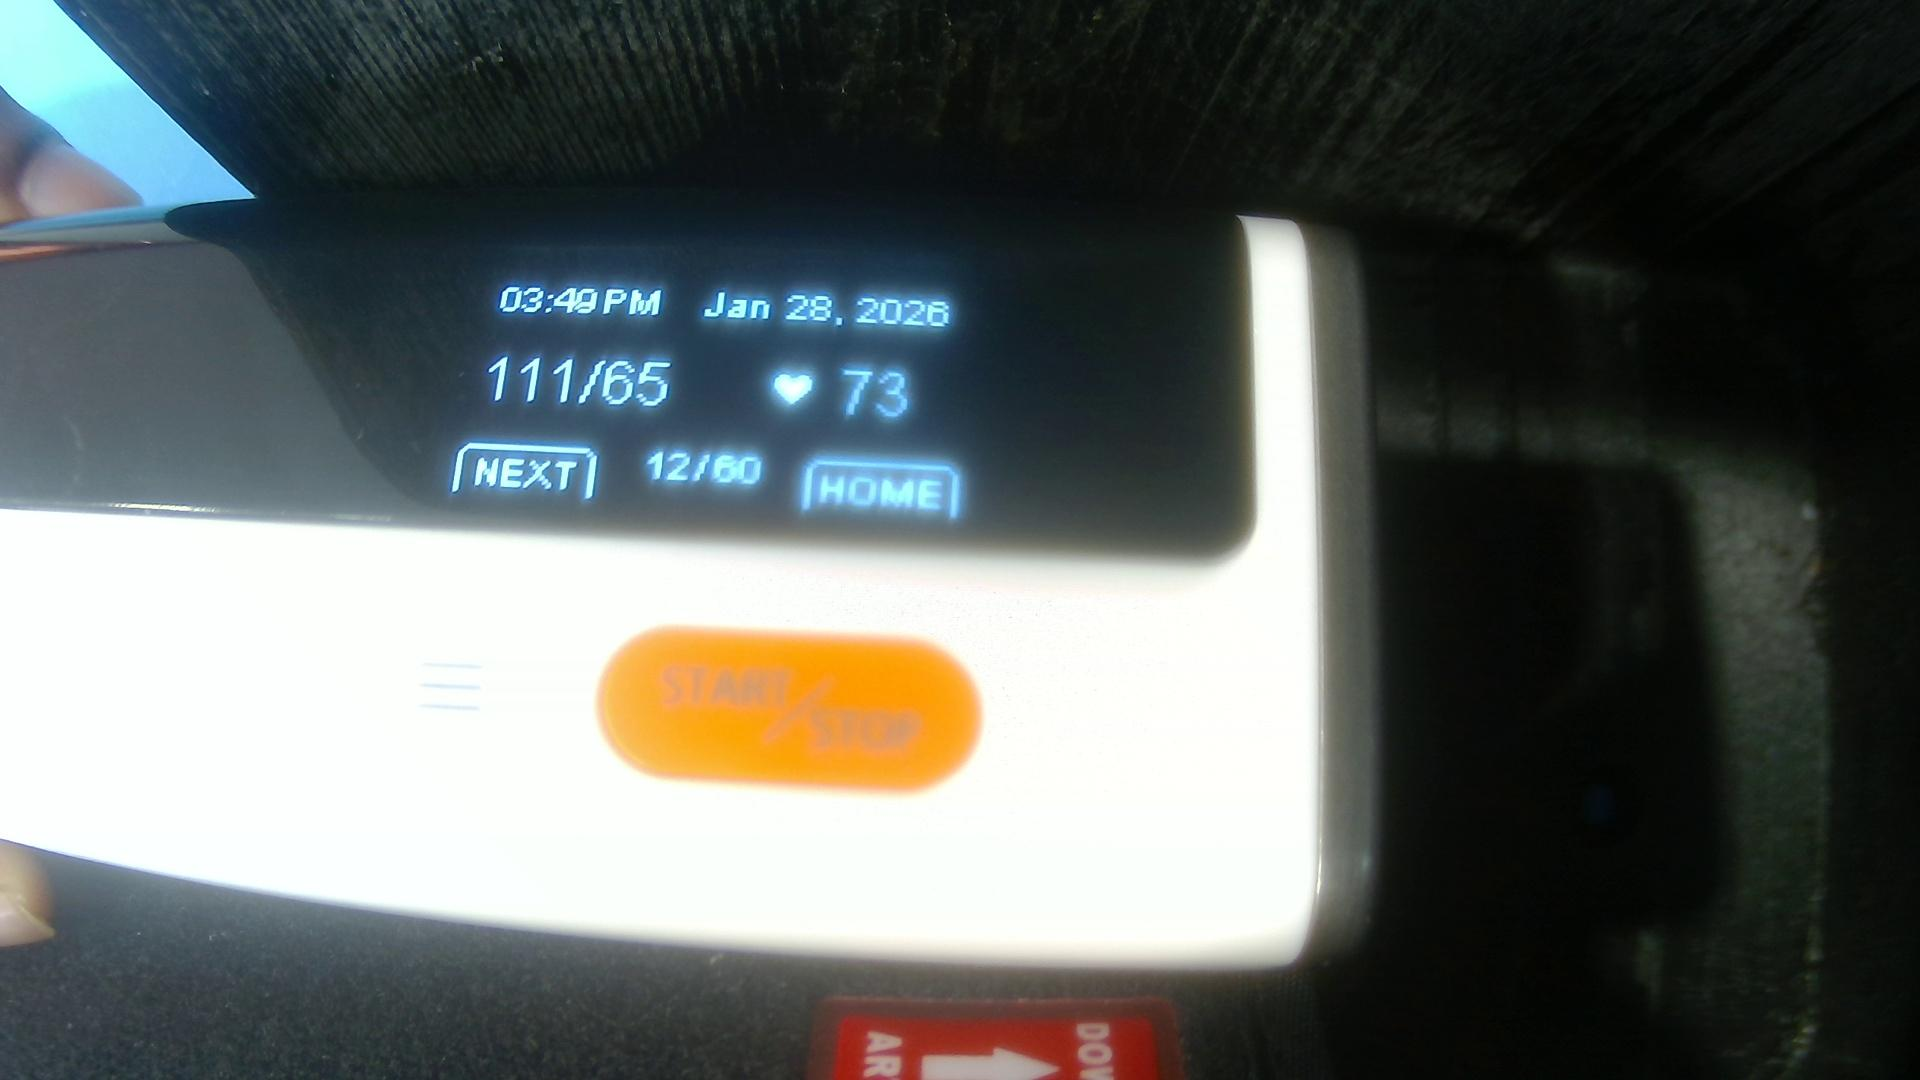DISPLAY: (36, 215, 1237, 564)
